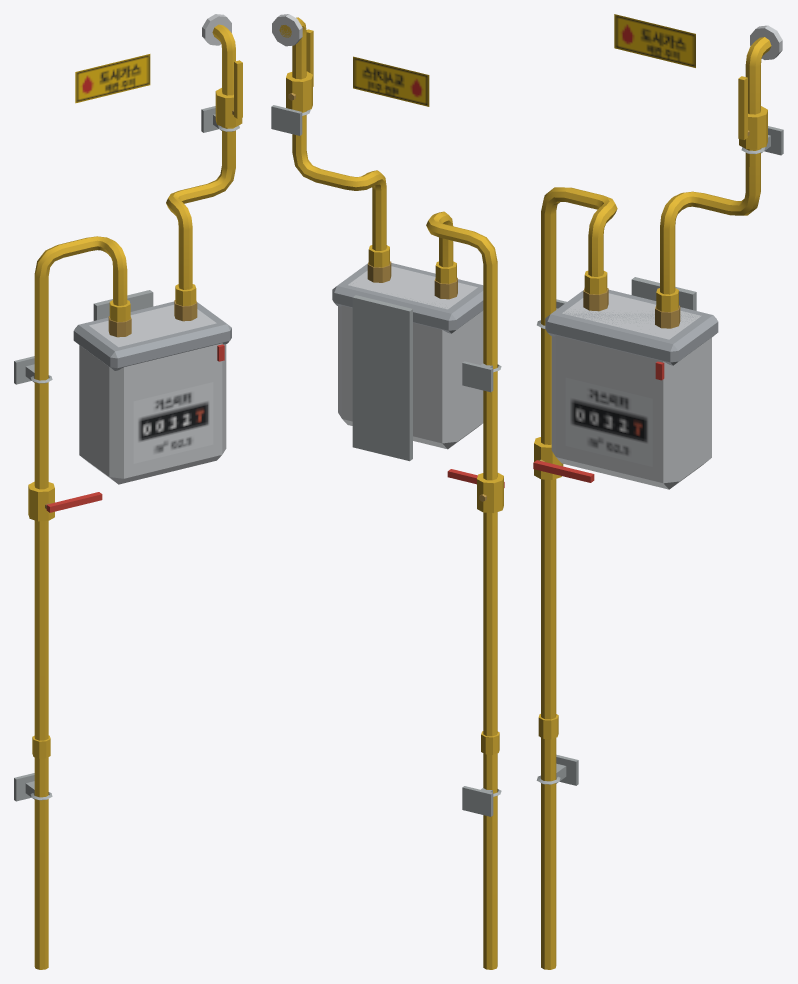
File: SC_Util_Gas_Meter.gltf
3 renders of one model, left to right at view 1: azimuth 30°, elevation 25°; view 2: azimuth 150°, elevation 25°; view 3: azimuth 330°, elevation 25°, orthographic. The views are drawn at different scales.
Parts seen in each view (by area): view 1: SC_Util_Gas_Meter; view 2: SC_Util_Gas_Meter; view 3: SC_Util_Gas_Meter.
Part boxes in pixels (left/top/right/bottom): SC_Util_Gas_Meter: left=14, top=14, right=242, bottom=969; SC_Util_Gas_Meter: left=271, top=14, right=504, bottom=969; SC_Util_Gas_Meter: left=533, top=14, right=783, bottom=969.
Bounding box in the file's own units: 0.46 × 1.83 × 0.197.
Materials: 2 (2 with a texture image).
